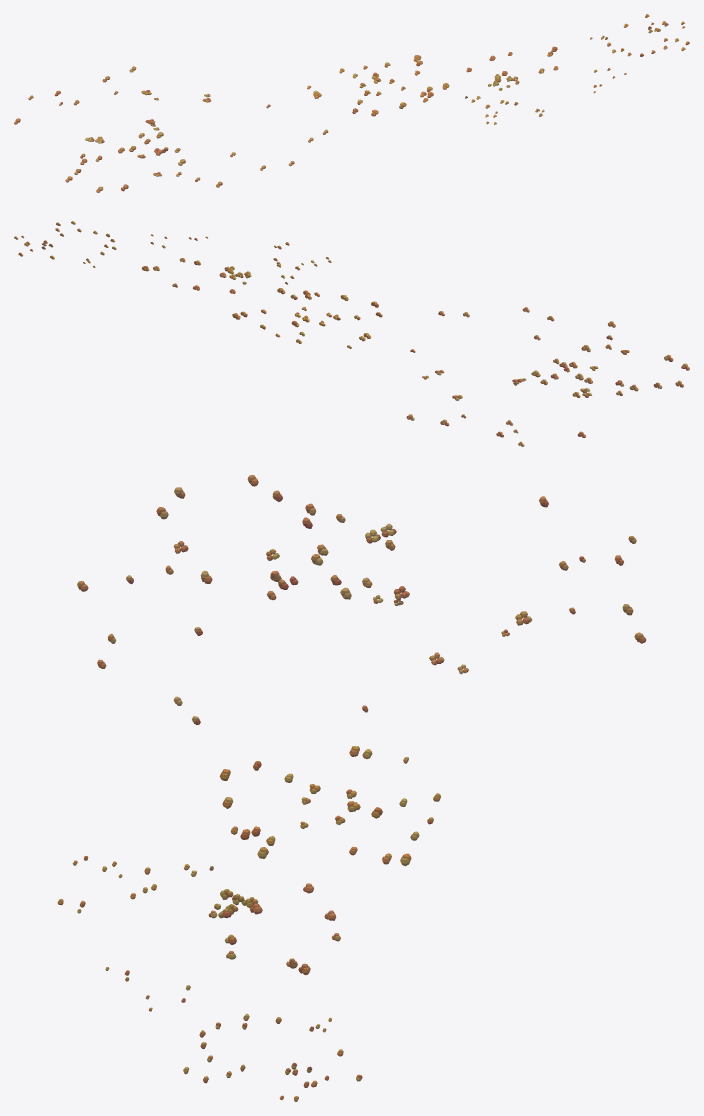
File: season_autumn.glb
3 views of the same model, one above another, from view 1: azimuth 30°, elevation 25°; view 2: azimuth 150°, elevation 25°; view 3: azimuth 270°, elevation 25° (orthographic). The views are drawn at different scales.
Parts seen in each view (by area): view 1: no part large enough to name; view 2: no part large enough to name; view 3: Jahreszeit · autumn · -7,0.
Part boxes in pixels (bbox=[...]): Jahreszeit · autumn · -7,0: bbox=[280, 523, 396, 589].
Size of the model in its own units: 262 by 4.78 by 106.
